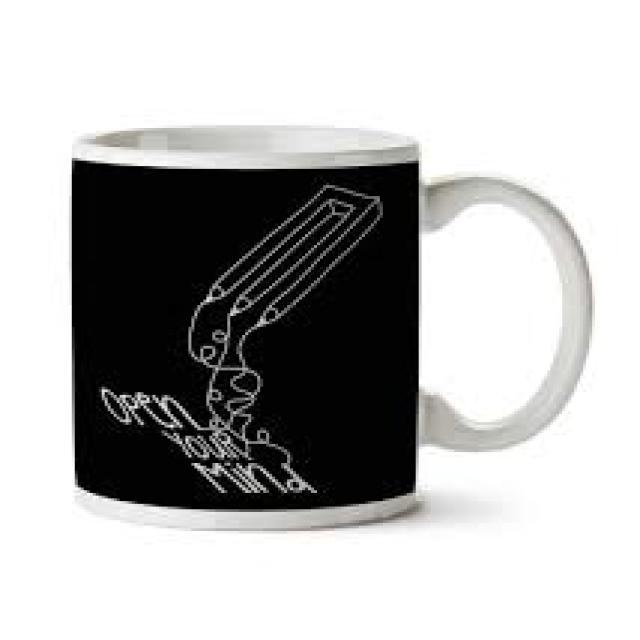taza: (69, 122, 594, 531)
